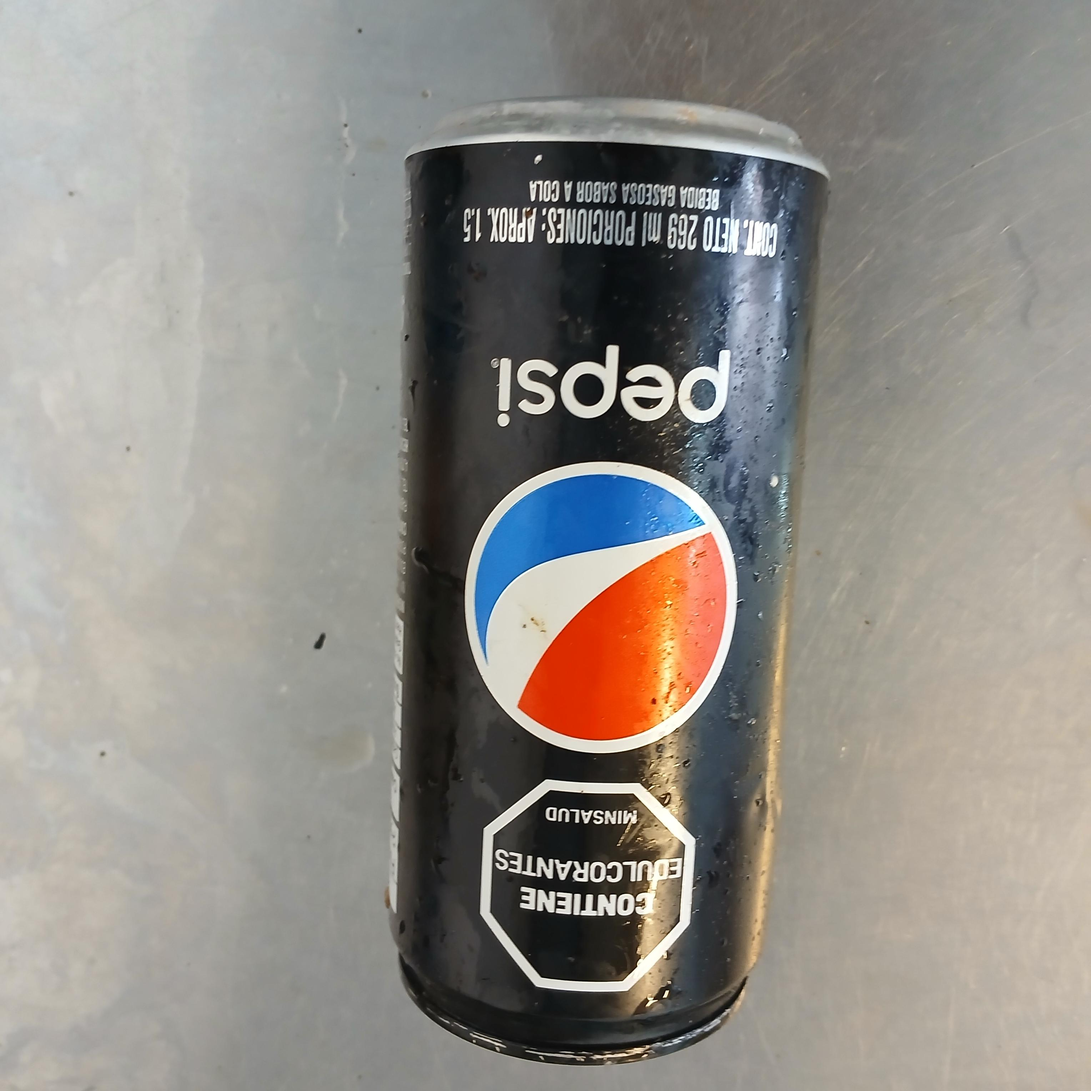Metal: (390, 100, 834, 1067)
